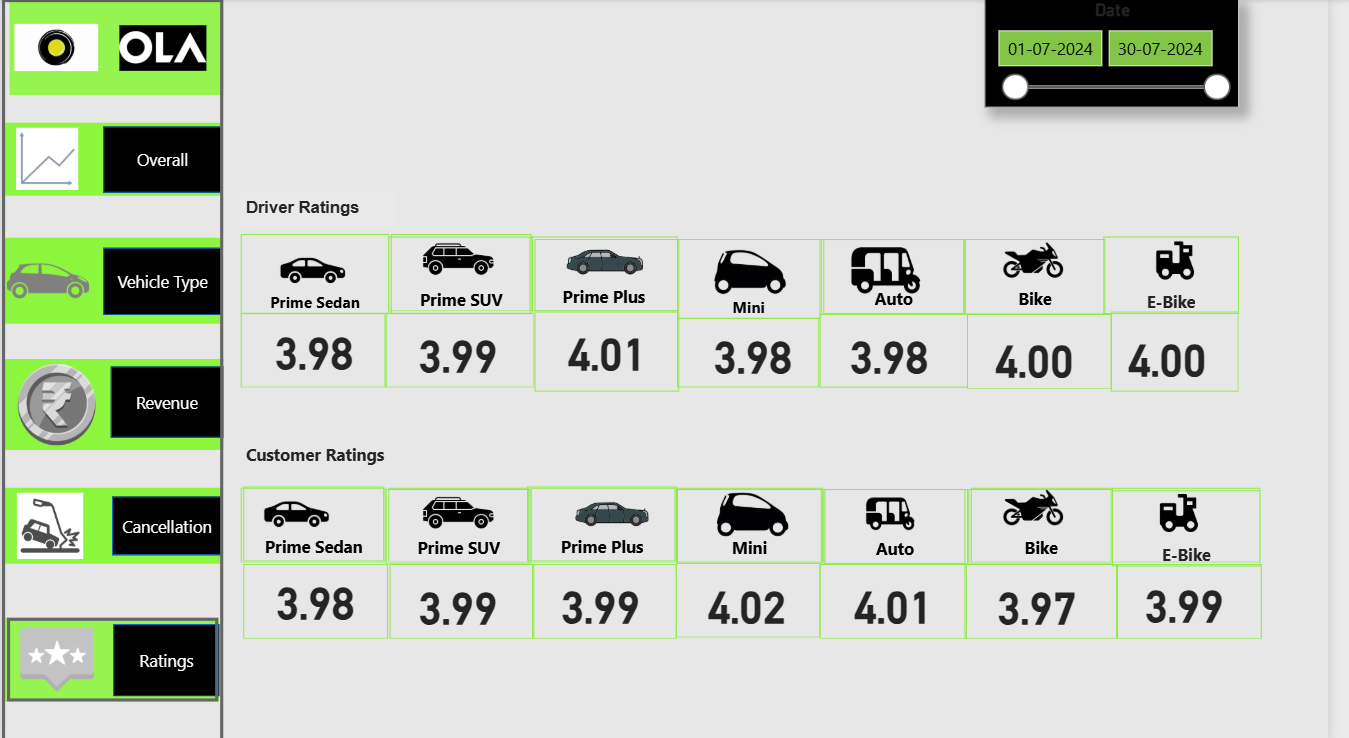

This screenshot's page, from the dashboard's own definition file:
{"tool":"powerbi","page":{"name":"Rating","canvas":[1280,720],"ordinal":4},"visuals":[{"type":"group","id":"g1","title":"Group 6","box":[7.2,0,206.3,92.9],"z":0},{"type":"group","id":"g2","title":"Group 7","box":[0,119.4,212.3,70],"z":1000},{"type":"group","id":"g3","title":"Group 3","box":[0,230.4,212.3,83.2],"z":2000},{"type":"group","id":"g4","title":"Group 1","box":[0,597.2,209.9,80.8],"z":3000},{"type":"group","id":"g5","title":"Group 5","box":[0,471.7,212.3,73.6],"z":4000},{"type":"image","box":[7.2,0,90.3,92.9],"z":5000,"group":"g1"},{"type":"group","id":"g6","title":"Group 8","box":[2.4,347.5,210.6,88.1],"z":5000},{"type":"actionButton","box":[0,0,213.5,720.2],"z":6000},{"type":"image","box":[96.7,20.2,117.2,53.9],"z":6000,"group":"g1"},{"type":"image","box":[0,471.7,92.1,73.6],"z":7000,"group":"g7"},{"type":"actionButton","box":[4.8,597.2,203.9,80.8],"z":7000},{"type":"image","box":[230.8,222.1,139.8,79.9],"z":8000},{"type":"image","box":[0,230.4,89,83.2],"z":8000,"group":"g3"},{"type":"shape","box":[230.8,227.1,143.5,77.4],"z":9000},{"type":"shape","box":[651.4,232.1,138.5,77.4],"z":10000},{"type":"image","box":[0,597.2,106.2,80.8],"z":10000,"group":"g4"},{"type":"image","box":[0,119.4,86.6,70],"z":11000,"group":"g8"},{"type":"shape","box":[928.4,232.1,136,72.4],"z":11000},{"type":"image","box":[2.4,347.5,100.7,88.1],"z":11001,"group":"g6"},{"type":"group","id":"g7","title":"Group 4","box":[0,471.7,92.1,73.6],"z":11005,"group":"g5"},{"type":"group","id":"g8","title":"Group 2","box":[0,119.4,86.6,70],"z":11007,"group":"g2"},{"type":"shape","box":[97.9,123,114.4,63.9],"z":11014,"group":"g2"},{"type":"shape","box":[97.7,239.5,114.6,65.1],"z":11015,"group":"g3"},{"type":"shape","box":[104.4,354.3,108.6,68.8],"z":11016,"group":"g6"},{"type":"shape","box":[106.2,480.5,106.2,56.7],"z":11017,"group":"g5"},{"type":"shape","box":[107.4,603.2,102.5,70],"z":11018,"group":"g4"},{"type":"shape","box":[1063.1,229.6,131,74.9],"z":12000},{"type":"image","box":[1048.2,227.1,167.2,51.2],"z":13000},{"type":"image","box":[922.1,218.4,147.2,67.4],"z":14000},{"type":"image","box":[788.6,219.6,127.3,84.9],"z":15000},{"type":"image","box":[390.6,212.1,99.8,78.6],"z":16000},{"type":"slicer","title":"Date","fields":{"Values":["July.Date"]},"box":[948.3,0,245.8,104.8],"z":17000},{"type":"shape","box":[373.1,229.6,139.8,72.4],"z":18000},{"type":"shape","box":[514.1,302,139.8,77.4],"z":19000},{"type":"shape","box":[789.9,232.1,139.8,72.4],"z":20000},{"type":"shape","box":[230.8,303.2,139.8,72.4],"z":21000},{"type":"shape","box":[370.6,303.2,143.5,72.4],"z":22000},{"type":"shape","box":[651.4,308.2,137.3,67.4],"z":23000},{"type":"shape","box":[788.6,304.5,143.5,71.1],"z":24000},{"type":"shape","box":[930.9,304.5,139.8,72.4],"z":25000},{"type":"shape","box":[1070.6,302,123.5,77.4],"z":26000},{"type":"shape","box":[514.1,232.1,139.8,69.9],"z":27000},{"type":"shape","box":[230.8,471.7,139.8,72.4],"z":28000},{"type":"shape","box":[370.6,472.9,139.8,72.4],"z":29000},{"type":"shape","box":[510.4,471.7,139.8,72.4],"z":30000},{"type":"shape","box":[651.4,472.9,139.8,72.4],"z":31000},{"type":"shape","box":[792.4,472.9,139.8,72.4],"z":32000},{"type":"shape","box":[932.1,472.9,139.8,72.4],"z":33000},{"type":"shape","box":[1071.9,471.7,143.5,72.4],"z":34000},{"type":"shape","box":[233.3,545.3,139.8,72.4],"z":35000},{"type":"shape","box":[374.3,545.3,139.8,72.4],"z":36000},{"type":"shape","box":[511.6,545.3,139.8,72.4],"z":37000},{"type":"shape","box":[650.1,544,139.8,72.4],"z":38000},{"type":"shape","box":[788.6,545.3,142.3,72.4],"z":39000},{"type":"shape","box":[928.4,545.3,147.2,72.4],"z":40000},{"type":"shape","box":[1075.6,545.3,139.8,72.4],"z":41000},{"type":"image","box":[506.6,212.1,149.7,83.6],"z":42000},{"type":"card","fields":{"Values":["Avg(July.Driver_Ratings)"]},"box":[233.3,302,137.3,73.6],"z":43000},{"type":"card","fields":{"Values":["Avg(July.Driver_Ratings)"]},"box":[371.6,304.4,137.3,73.1],"z":44000},{"type":"card","fields":{"Values":["Avg(July.Driver_Ratings)"]},"box":[656.6,310.4,137.3,64.2],"z":45000},{"type":"card","fields":{"Values":["Avg(July.Driver_Ratings)"]},"box":[787.9,308.9,137.3,65.7],"z":46000},{"type":"card","fields":{"Values":["Avg(July.Driver_Ratings)"]},"box":[928.1,308.9,137.3,73.1],"z":47000},{"type":"card","fields":{"Values":["Avg(July.Driver_Ratings)"]},"box":[1066.9,309.5,116,69.9],"z":48000},{"type":"card","fields":{"Values":["Avg(July.Driver_Ratings)"]},"box":[514.8,302.9,137.3,73.1],"z":49000},{"type":"image","box":[505.4,456.7,166,79.9],"z":50000},{"type":"image","box":[1051.9,470.4,167.2,51.2],"z":51000},{"type":"image","box":[214.6,456.7,139.8,79.9],"z":52000},{"type":"image","box":[390.6,456.7,99.8,78.6],"z":53000},{"type":"image","box":[787.4,465.4,138.5,62.4],"z":54000},{"type":"image","box":[922.1,456.7,147.2,67.4],"z":55000},{"type":"image","box":[682.6,204.6,78.6,116],"z":56000},{"type":"image","box":[685,439.2,78.6,116],"z":57000},{"type":"card","fields":{"Values":["Avg(July.Customer_Rating)"]},"box":[234.6,542.8,137.3,73.6],"z":58000},{"type":"card","fields":{"Values":["Avg(July.Customer_Rating)"]},"box":[371.8,550.3,137.3,67.4],"z":59000},{"type":"card","fields":{"Values":["Avg(July.Customer_Rating)"]},"box":[509.1,546.5,137.3,73.6],"z":60000},{"type":"card","fields":{"Values":["Avg(July.Customer_Rating)"]},"box":[650.1,546.5,137.3,73.6],"z":61000},{"type":"card","fields":{"Values":["Avg(July.Customer_Rating)"]},"box":[791.1,546.5,137.3,73.6],"z":62000},{"type":"card","fields":{"Values":["Avg(July.Customer_Rating)"]},"box":[929.6,547.8,137.3,73.6],"z":63000},{"type":"card","fields":{"Values":["Avg(July.Customer_Rating)"]},"box":[1073.1,545.3,137.3,73.6],"z":64000},{"type":"textbox","box":[230.8,187.2,149.7,32.4],"z":65000},{"type":"textbox","box":[230.8,423,177.2,33.7],"z":66000},{"type":"shape","box":[1071.9,474.2,143.5,73.6],"z":67000},{"type":"shape","box":[934.6,471.7,136,72.4],"z":68000},{"type":"shape","box":[793.6,472.9,136,72.4],"z":69000},{"type":"shape","box":[650.1,471.7,142.3,72.4],"z":70000},{"type":"shape","box":[509.1,229.6,143.5,72.4],"z":71000},{"type":"shape","box":[506.6,470.4,144.7,72.4],"z":72000},{"type":"shape","box":[373.1,471.7,136,72.4],"z":73000},{"type":"shape","box":[375.6,227.1,136,77.4],"z":74000},{"type":"shape","box":[233.3,470.4,136,72.4],"z":75000},{"type":"shape","box":[792.4,232.1,136,72.4],"z":76000}]}

Visuals, with their boxes in screenshot pixels (x1, y1, x2, y2), scaled from the page's 1280x720 canvas onto the 1349x738 screenshot:
"Group 6" group: 8 0 225 95
"Group 7" group: 0 122 224 194
"Group 3" group: 0 236 224 321
"Group 1" group: 0 612 221 695
"Group 5" group: 0 483 224 559
image: 8 0 103 95
"Group 8" group: 3 356 224 446
actionButton: 0 0 225 737
image: 102 21 225 76
image: 0 483 97 559
actionButton: 5 612 220 695
image: 243 228 391 310
image: 0 236 94 321
shape: 243 233 394 312
shape: 687 238 832 317
image: 0 612 112 695
image: 0 122 91 194
shape: 978 238 1122 312
image: 3 356 109 446
"Group 4" group: 0 483 97 559
"Group 2" group: 0 122 91 194
shape: 103 126 224 192
shape: 103 245 224 312
shape: 110 363 224 434
shape: 112 493 224 551
shape: 113 618 221 690
shape: 1120 235 1258 312
image: 1105 233 1281 285
image: 972 224 1127 293
image: 831 225 965 312
image: 412 217 517 298
"Date" slicer: 999 0 1258 107
shape: 393 235 541 310
shape: 542 310 689 389
shape: 832 238 980 312
shape: 243 311 391 385
shape: 391 311 542 385
shape: 687 316 831 385
shape: 831 312 982 385
shape: 981 312 1128 386
shape: 1128 310 1258 389
shape: 542 238 689 310
shape: 243 483 391 558
shape: 391 485 538 559
shape: 538 483 685 558
shape: 687 485 834 559
shape: 835 485 982 559
shape: 982 485 1130 559
shape: 1130 483 1281 558
shape: 246 559 393 633
shape: 394 559 542 633
shape: 539 559 687 633
shape: 685 558 832 632
shape: 831 559 981 633
shape: 978 559 1134 633
shape: 1134 559 1281 633
image: 534 217 692 303
card - Avg(July.Driver_Ratings): 246 310 391 385
card - Avg(July.Driver_Ratings): 392 312 536 387
card - Avg(July.Driver_Ratings): 692 318 837 384
card - Avg(July.Driver_Ratings): 830 317 975 384
card - Avg(July.Driver_Ratings): 978 317 1123 392
card - Avg(July.Driver_Ratings): 1124 317 1247 389
card - Avg(July.Driver_Ratings): 543 310 687 385
image: 533 468 708 550
image: 1109 482 1285 535
image: 226 468 374 550
image: 412 468 517 549
image: 830 477 976 541
image: 972 468 1127 537
image: 719 210 802 329
image: 722 450 805 569
card - Avg(July.Customer_Rating): 247 556 392 632
card - Avg(July.Customer_Rating): 392 564 537 633
card - Avg(July.Customer_Rating): 537 560 681 636
card - Avg(July.Customer_Rating): 685 560 830 636
card - Avg(July.Customer_Rating): 834 560 978 636
card - Avg(July.Customer_Rating): 980 561 1124 637
card - Avg(July.Customer_Rating): 1131 559 1276 634
textbox: 243 192 401 225
textbox: 243 434 430 468
shape: 1130 486 1281 561
shape: 985 483 1128 558
shape: 836 485 980 559
shape: 685 483 835 558
shape: 537 235 688 310
shape: 534 482 686 556
shape: 393 483 537 558
shape: 396 233 539 312
shape: 246 482 389 556
shape: 835 238 978 312
